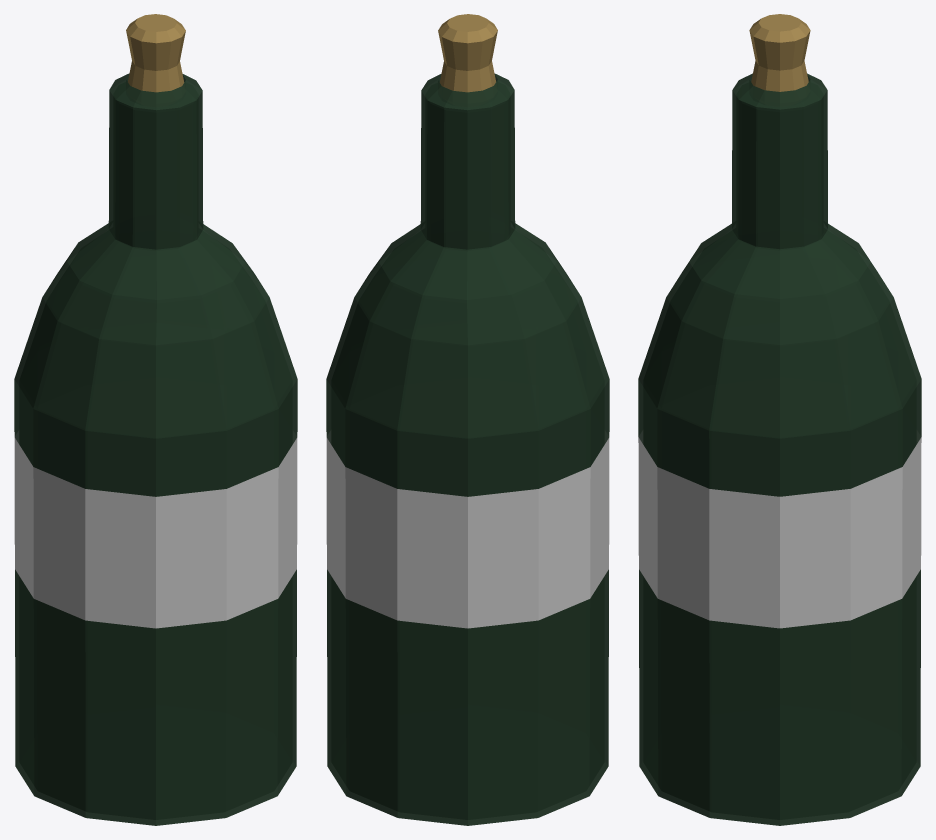
File: Wine Bottle 1.fbx
3 views of the same model, side by side, from view 1: azimuth 30°, elevation 25°; view 2: azimuth 150°, elevation 25°; view 3: azimuth 270°, elevation 25° (orthographic).
Visible parts, largest first — view 1: Wine Bottle 1, Cork; view 2: Wine Bottle 1, Cork; view 3: Wine Bottle 1, Cork.
Part boxes in pixels (bbox=[...]): Wine Bottle 1: bbox=[14, 73, 297, 825]; Cork: bbox=[126, 14, 185, 92]; Wine Bottle 1: bbox=[326, 73, 609, 825]; Cork: bbox=[438, 14, 497, 92]; Wine Bottle 1: bbox=[638, 73, 921, 825]; Cork: bbox=[749, 14, 810, 91].
Bounding box in the file's own units: 161 × 467 × 161.
